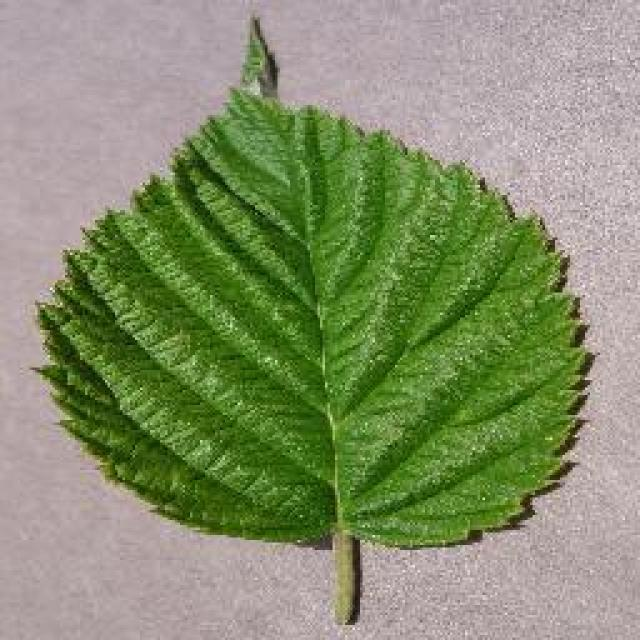Ras_healthy: (72, 126, 527, 525)
